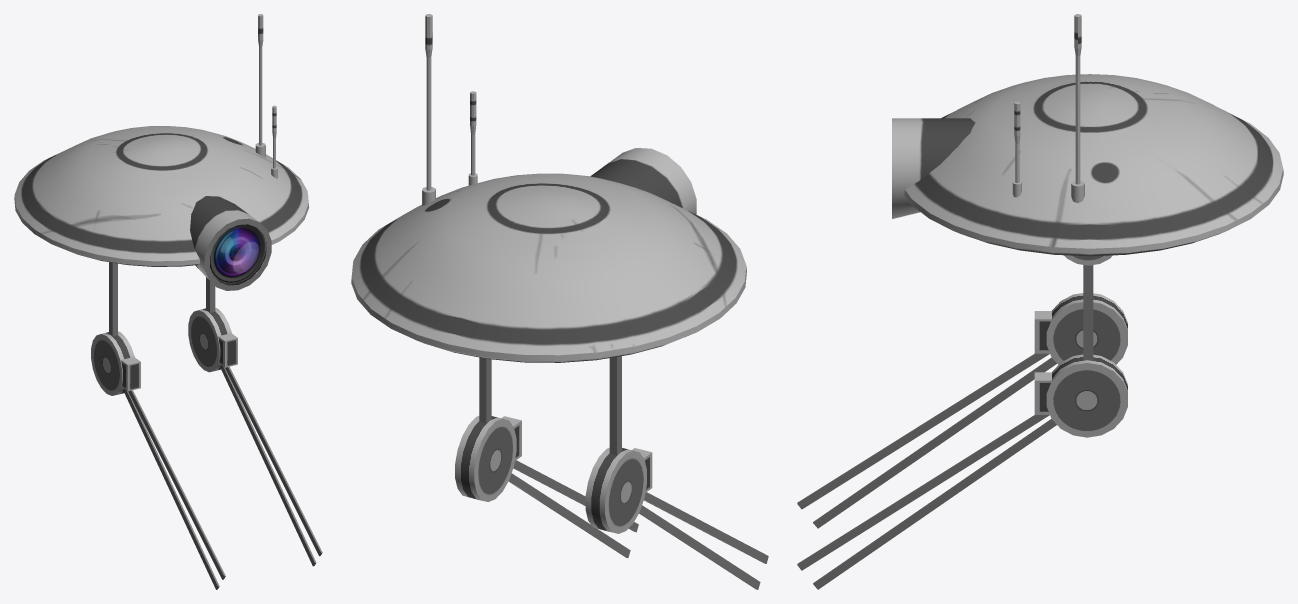
The model's file is Probe Robot.FBX.
3 views of the same model, side by side, from view 1: azimuth 30°, elevation 25°; view 2: azimuth 150°, elevation 25°; view 3: azimuth 270°, elevation 25° (orthographic). The views are drawn at different scales.
Parts seen in each view (by area): view 1: Sphere002; view 2: Sphere002; view 3: Sphere002.
Boxes of the visible parts, x1,y1,x2,y2 form: Sphere002: [14, 14, 322, 589]; Sphere002: [351, 14, 768, 589]; Sphere002: [797, 14, 1283, 589].
Size of the model in its own units: 2.41 by 3.08 by 4.21.
